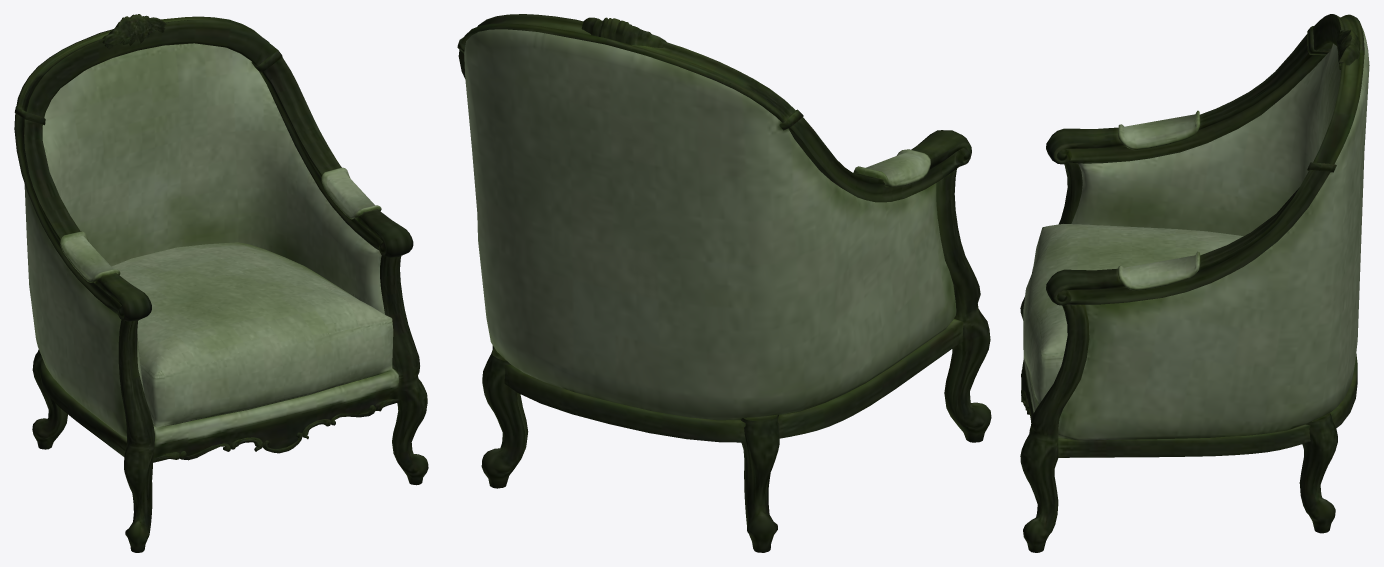
Rendered from nyb_network_chair.glb.
3 renders of one model, left to right at view 1: azimuth 30°, elevation 25°; view 2: azimuth 150°, elevation 25°; view 3: azimuth 270°, elevation 25°, orthographic. The views are drawn at different scales.
Parts seen in each view (by area): view 1: ArmChair_01; view 2: ArmChair_01; view 3: ArmChair_01.
Part boxes in pixels (x1,y1,x2,y2): ArmChair_01: [14, 14, 428, 552]; ArmChair_01: [457, 14, 991, 552]; ArmChair_01: [1020, 14, 1369, 552].
Bounding box in the file's own units: 0.8484 × 1.07 × 0.7658.
1 material, 1 textured.
